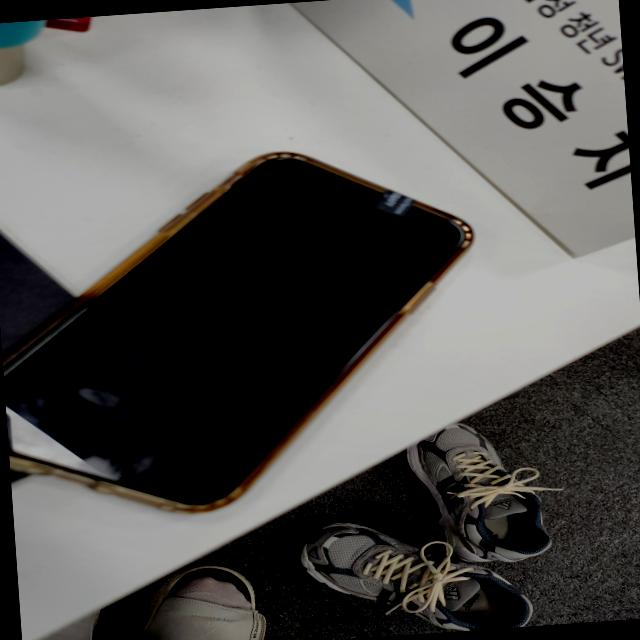phone: (0, 135, 506, 526)
sticker: (370, 187, 420, 218)
